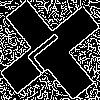L: (25, 25, 78, 75)
